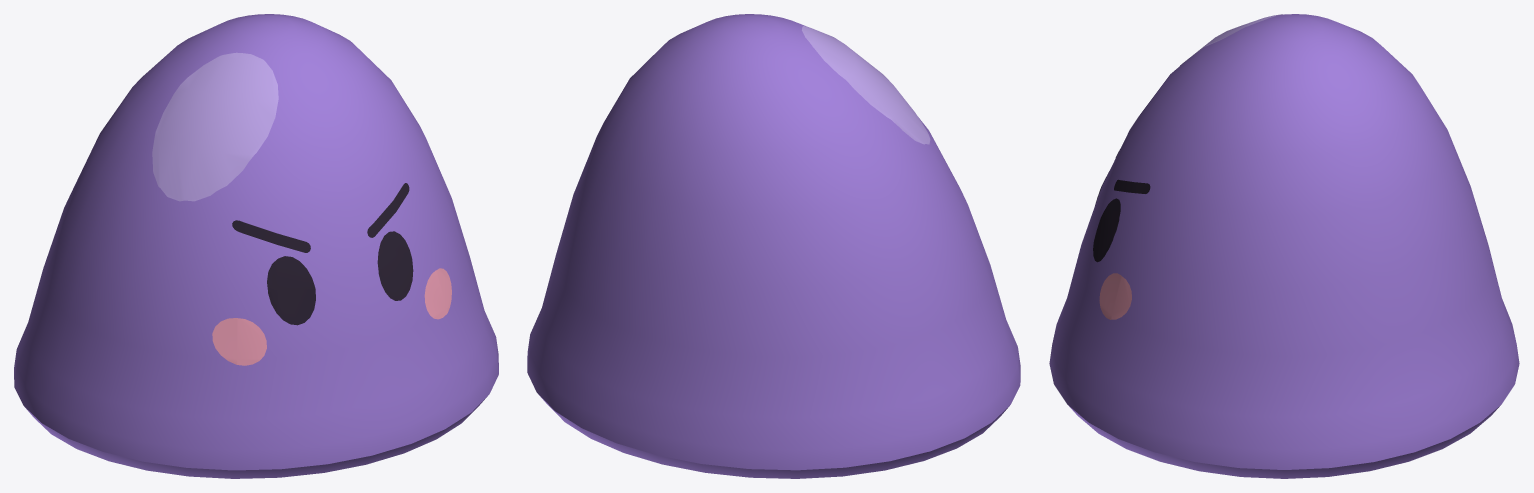
File: slime.glb
3 views of the same model, side by side, from view 1: azimuth 30°, elevation 25°; view 2: azimuth 150°, elevation 25°; view 3: azimuth 270°, elevation 25° (orthographic).
Parts seen in each view (by area): view 1: Body, BodyHighlight, Face; view 2: Body, BodyHighlight; view 3: Body, Face.
Part boxes in pixels (left/top/right/bottom): Body: left=14, top=14, right=498, bottom=478; BodyHighlight: left=152, top=52, right=278, bottom=201; Face: left=212, top=183, right=451, bottom=365; Body: left=527, top=14, right=1020, bottom=478; BodyHighlight: left=802, top=26, right=930, bottom=144; Body: left=1049, top=14, right=1519, bottom=478; Face: left=1093, top=151, right=1150, bottom=319.
Bounding box in the file's own units: 0.75 × 0.6 × 0.7.
